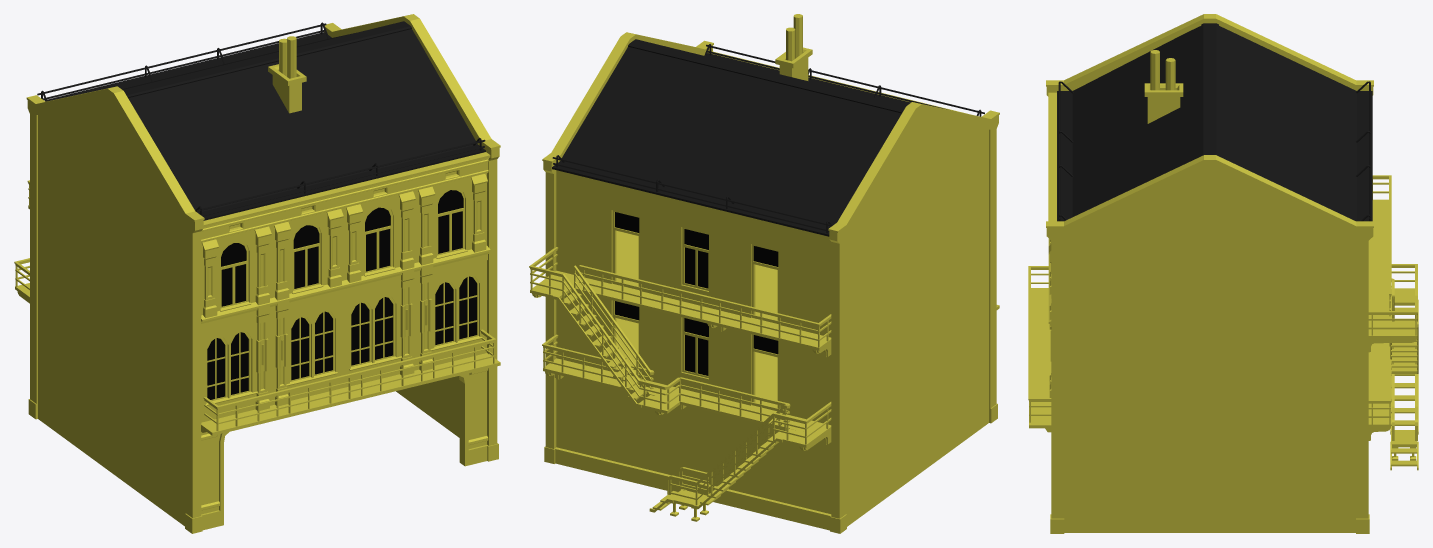
Rendered from SM_second_house_1.fbx.
3 views of the same model, side by side, from view 1: azimuth 30°, elevation 25°; view 2: azimuth 150°, elevation 25°; view 3: azimuth 270°, elevation 25° (orthographic). The views are drawn at different scales.
Parts seen in each view (by area): view 1: Cylinder_24; view 2: Cylinder_24; view 3: Cylinder_24.
Part boxes in pixels (bbox=[...]): Cylinder_24: bbox=[14, 14, 500, 533]; Cylinder_24: bbox=[529, 14, 999, 533]; Cylinder_24: bbox=[1028, 14, 1418, 533].
Bounding box in the file's own units: 1064 × 1390 × 1201.
